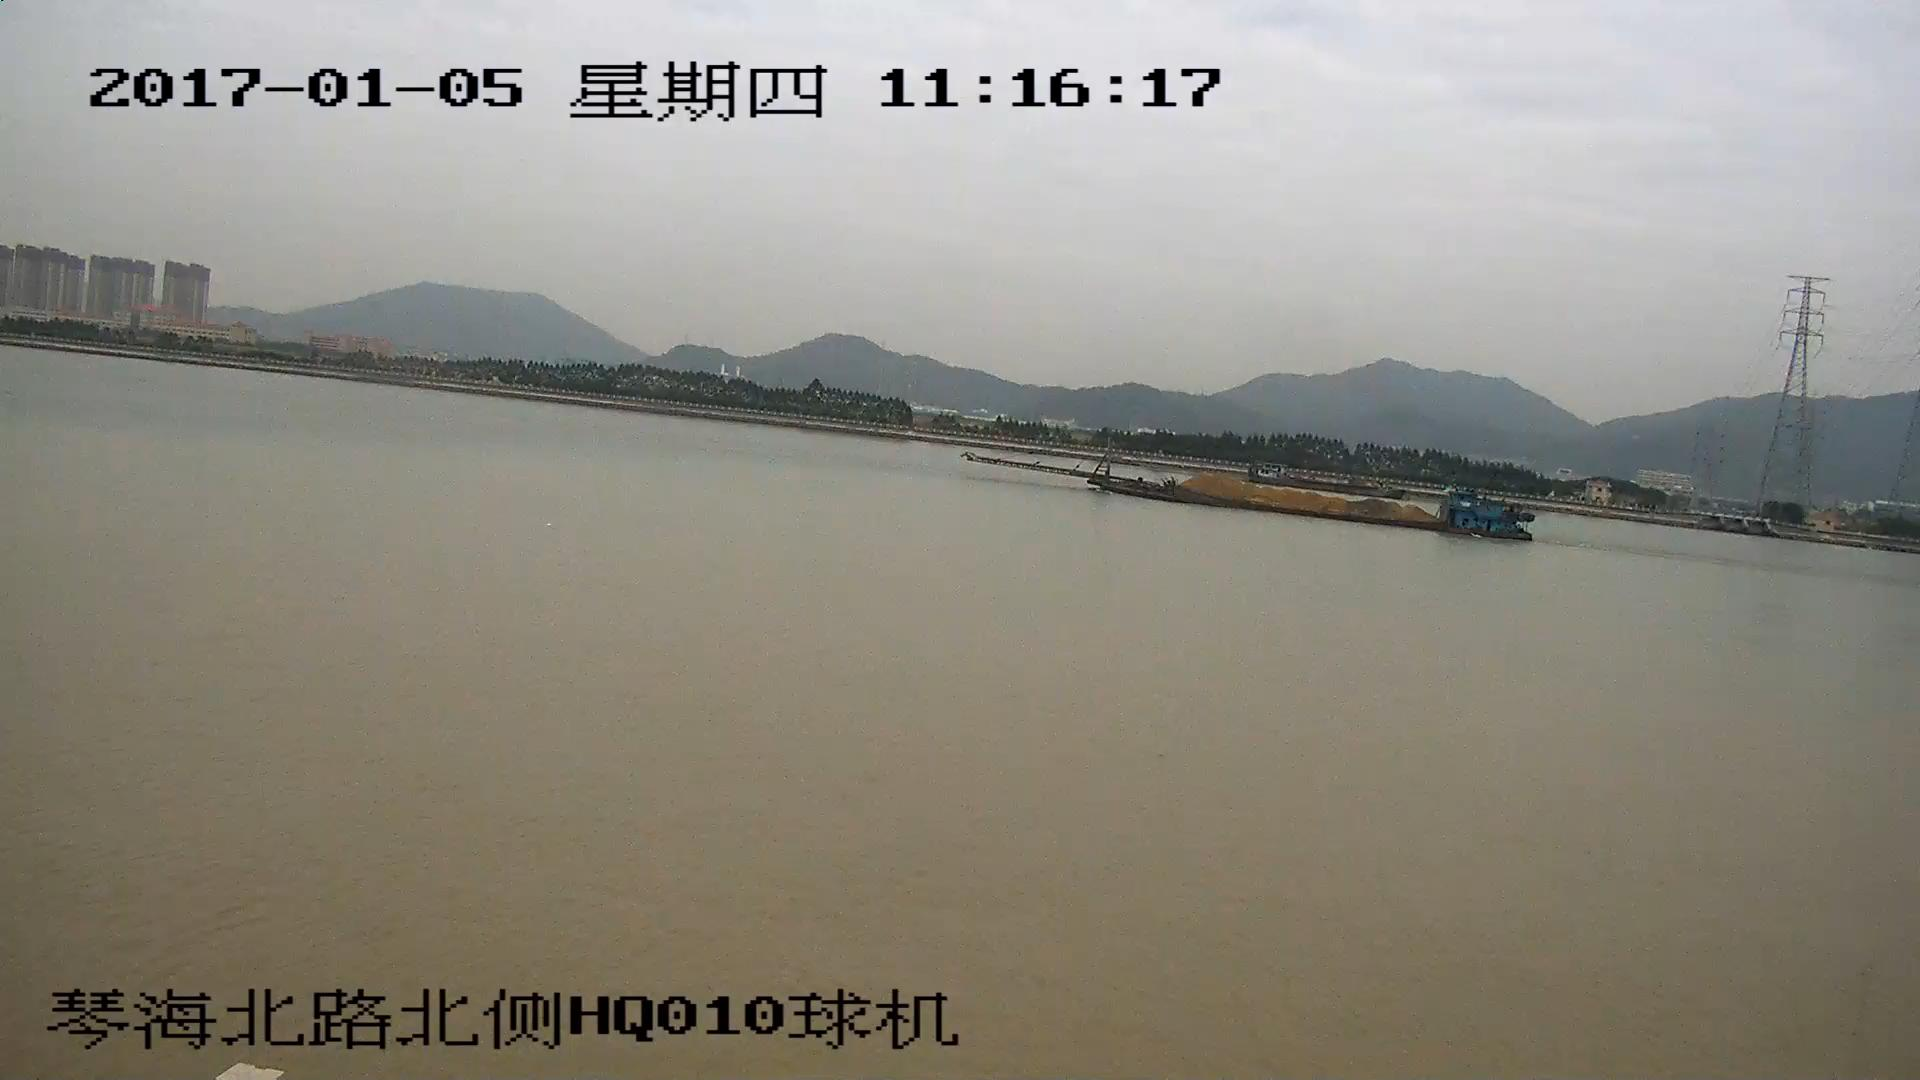ore carrier: (967, 433, 1528, 531)
